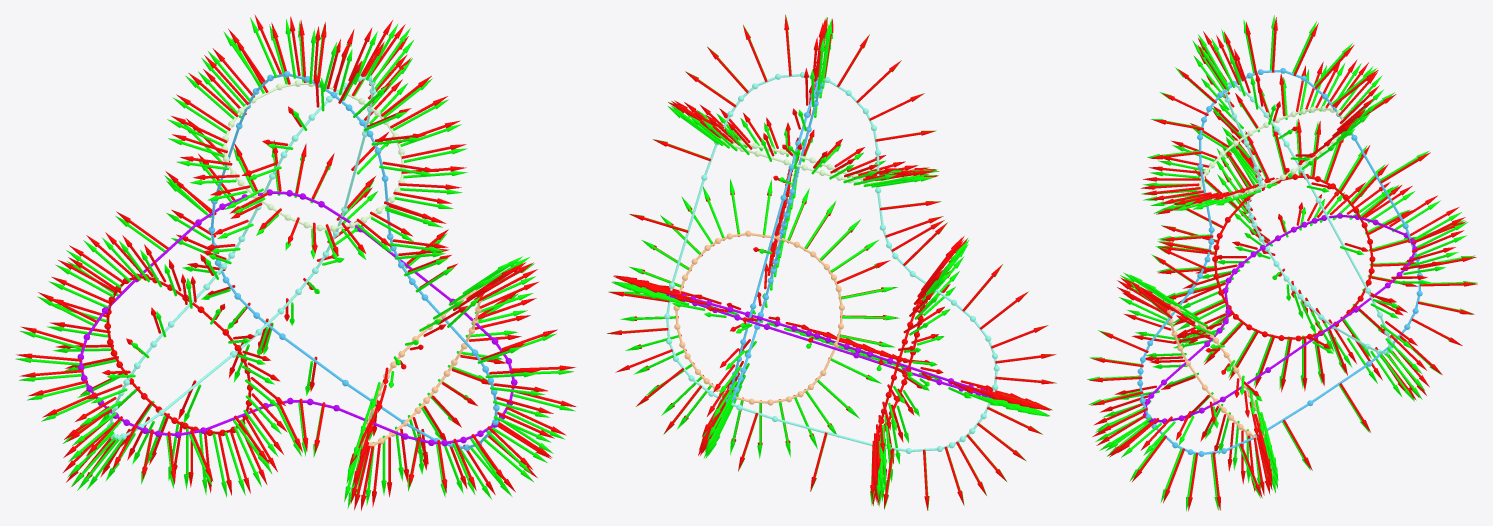
File: flowrep_trebol.gltf
3 views of the same model, side by side, from view 1: azimuth 30°, elevation 25°; view 2: azimuth 150°, elevation 25°; view 3: azimuth 270°, elevation 25° (orthographic). The views are drawn at different scales.
Bounding box in the file's own units: 0.8303 × 0.8051 × 0.6592.
